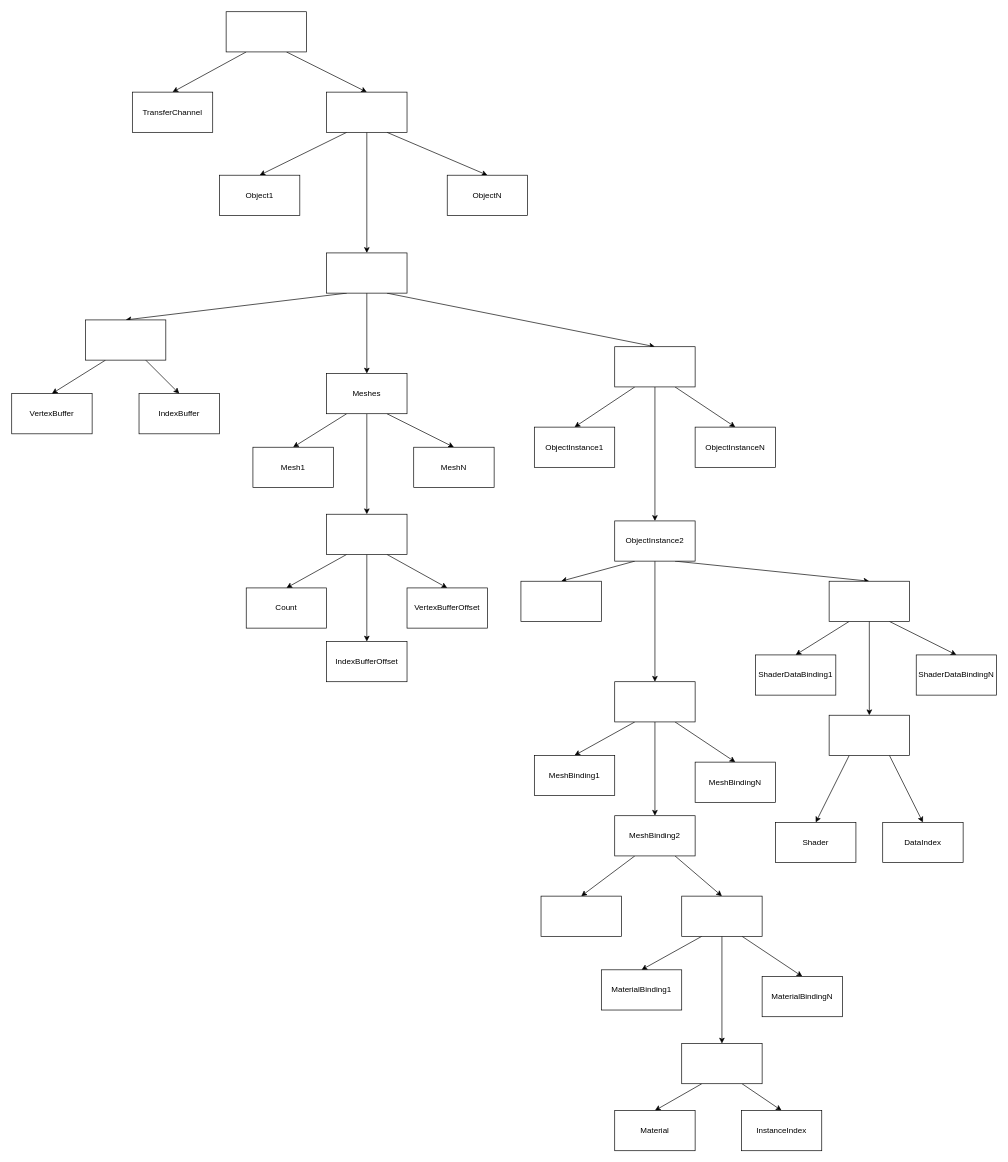
This 1008x1162 diagram has some shape labels left out. Here are the shapes that lost their labels. From the top down, the box of each, then its label:
(225, 11, 307, 52): World
(326, 91, 407, 132): Objects
(326, 252, 407, 293): Object2
(85, 319, 166, 360): Resources
(614, 346, 695, 387): ObjectInstances
(326, 514, 407, 554): Mesh2
(520, 581, 601, 621): Data
(828, 581, 910, 621): ShaderDataBindings
(614, 681, 695, 722): MeshBindings
(828, 715, 910, 755): ShaderDataBinding2
(540, 895, 621, 936): Mesh
(681, 895, 762, 936): MaterialBindings
(681, 1043, 762, 1084): MaterialBinding2
